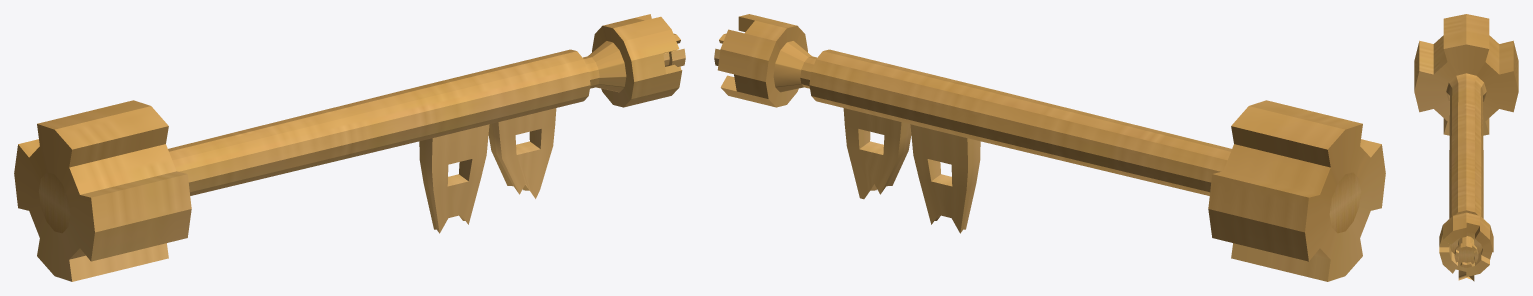
File: KEY.fbx
3 renders of one model, left to right at view 1: azimuth 30°, elevation 25°; view 2: azimuth 150°, elevation 25°; view 3: azimuth 270°, elevation 25°, orthographic. The views are drawn at different scales.
Parts seen in each view (by area): view 1: KEY; view 2: KEY; view 3: KEY.
Boxes of the visible parts, <box> form: KEY: <box>14,14,685,281</box>; KEY: <box>714,14,1385,281</box>; KEY: <box>1414,14,1518,281</box>.
Bounding box in the file's own units: 26.84 × 8.06 × 6.04.
1 material, 1 textured.
